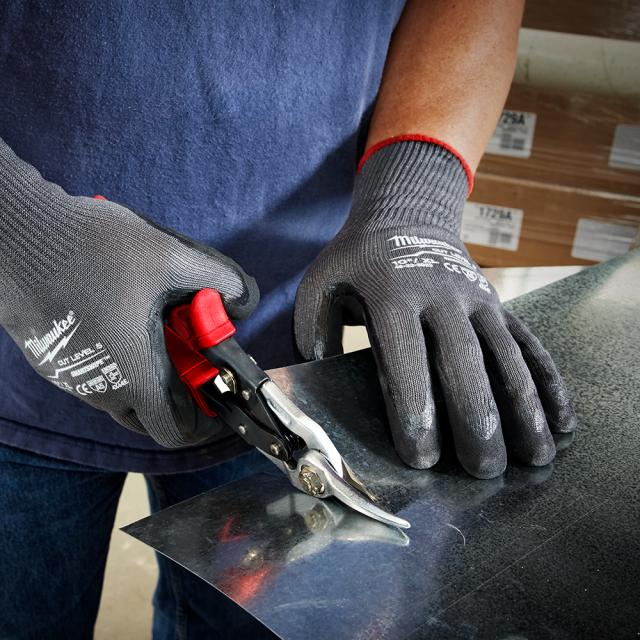gloves: (292, 134, 575, 479), (0, 140, 264, 450)
